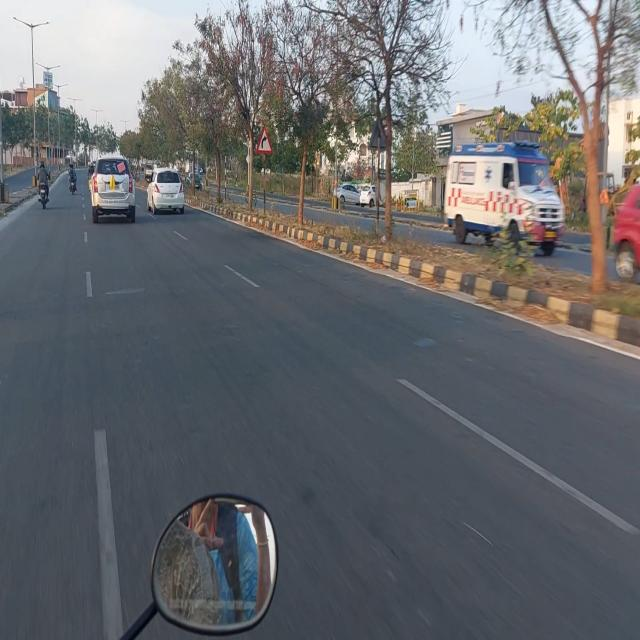bien_cam: (255, 123, 273, 157)
